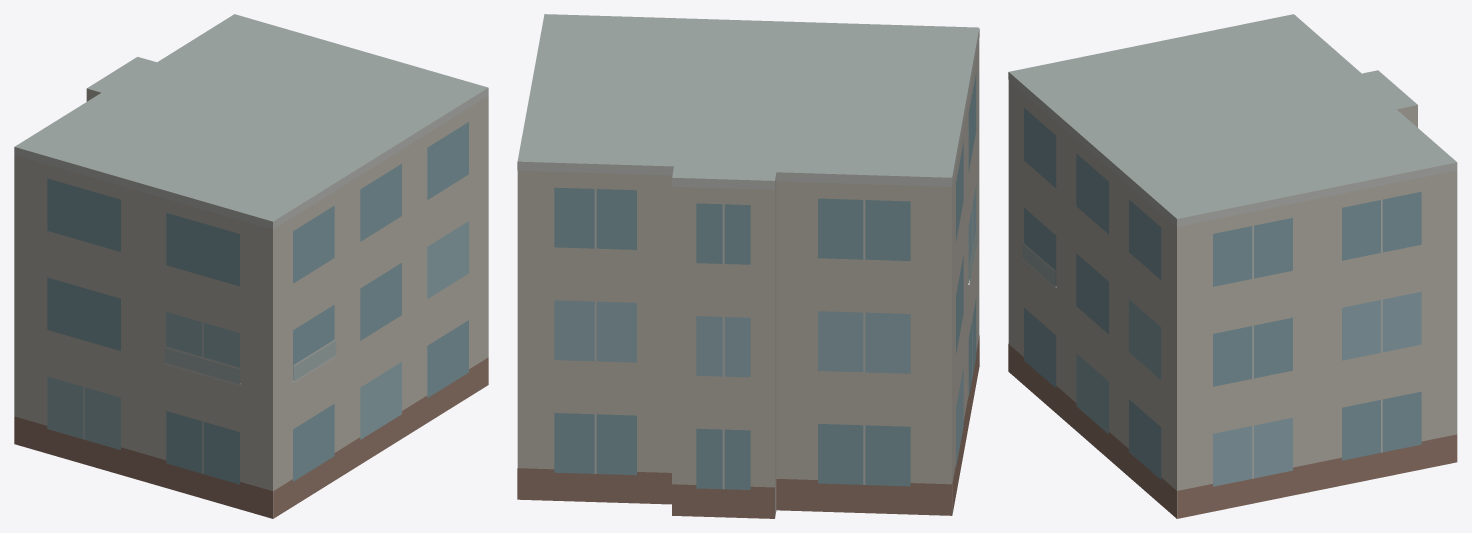
The model's file is survey-upis-32811437.glb.
The picture shows the model from 3 angles, left to right: view 1: azimuth 30°, elevation 25°; view 2: azimuth 150°, elevation 25°; view 3: azimuth 270°, elevation 25°; orthographic projection. The views are drawn at different scales.
Parts seen in each view (by area): view 1: survey-upis-32811437.tmp; view 2: survey-upis-32811437.tmp; view 3: survey-upis-32811437.tmp.
Part boxes in pixels (x1=…): survey-upis-32811437.tmp: x1=14, y1=14, x2=488, y2=518; survey-upis-32811437.tmp: x1=517, y1=14, x2=979, y2=518; survey-upis-32811437.tmp: x1=1008, y1=14, x2=1457, y2=518.
Bounding box in the file's own units: 13.43 × 9.15 × 12.42.
